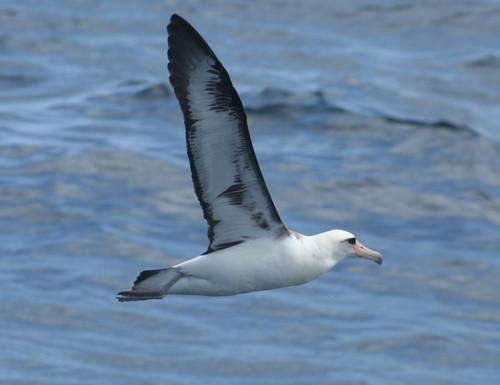002.Laysan_Albatross: (116, 15, 388, 302)
